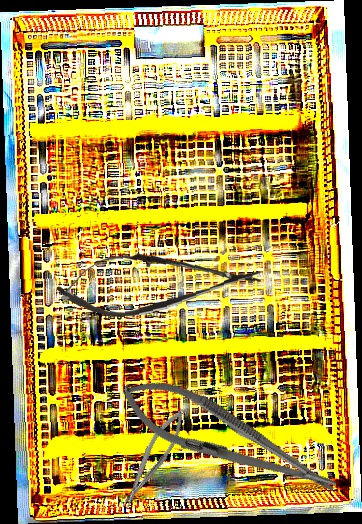Micro Scissor: (55, 244, 264, 322)
Needle Holder: (111, 362, 347, 516), (111, 403, 195, 513)
